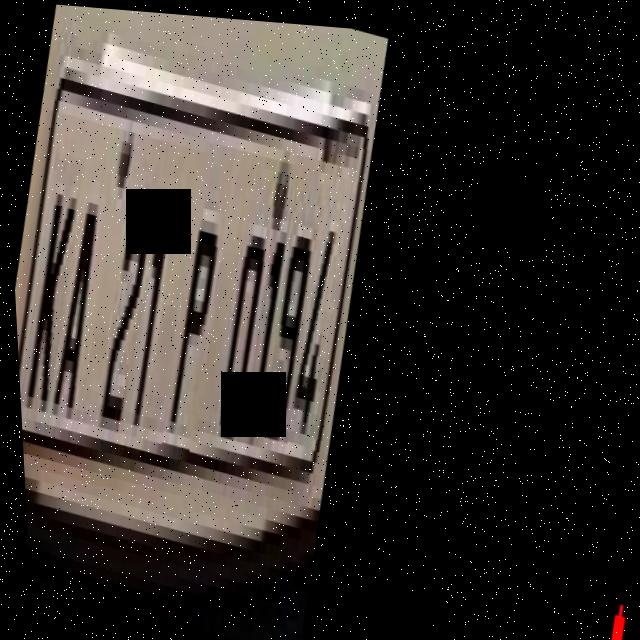0: (199, 193, 280, 443)
1: (104, 187, 186, 457), (228, 201, 299, 445)
4: (271, 190, 356, 459)
9: (248, 210, 325, 441)
A: (32, 181, 116, 450)
K: (6, 148, 95, 436)
P: (144, 193, 233, 462)
